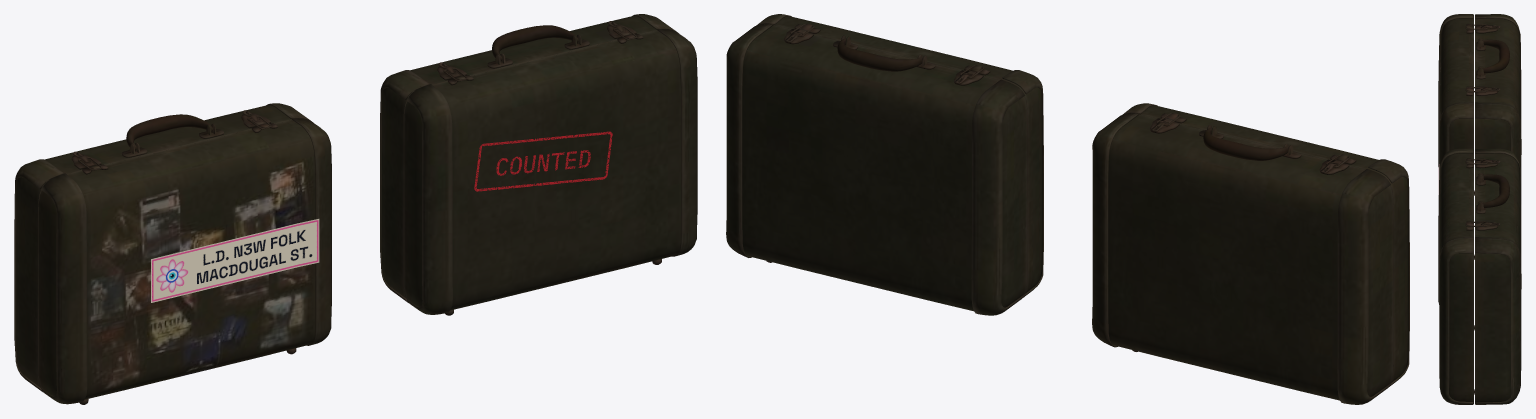
Rendered from nyb_llewyn_case.glb.
The picture shows the model from 3 angles, left to right: view 1: azimuth 30°, elevation 25°; view 2: azimuth 150°, elevation 25°; view 3: azimuth 270°, elevation 25°; orthographic projection. The views are drawn at different scales.
Visible parts, largest first — view 1: vintage_suitcase_01_bottom, stk_lbl_58967f1963.png, stk_counted.png; view 2: vintage_suitcase_01_bottom; view 3: vintage_suitcase_01_bottom.
Part boxes in pixels (x1=…): vintage_suitcase_01_bottom: x1=14, y1=14, x2=697, y2=404; stk_lbl_58967f1963.png: x1=151, y1=219, x2=319, y2=302; stk_counted.png: x1=474, y1=131, x2=612, y2=191; vintage_suitcase_01_bottom: x1=726, y1=14, x2=1409, y2=404; vintage_suitcase_01_bottom: x1=1438, y1=14, x2=1521, y2=404.
Size of the model in its own units: 1.61 by 0.5679 by 0.2392.
4 materials, 4 textured.
